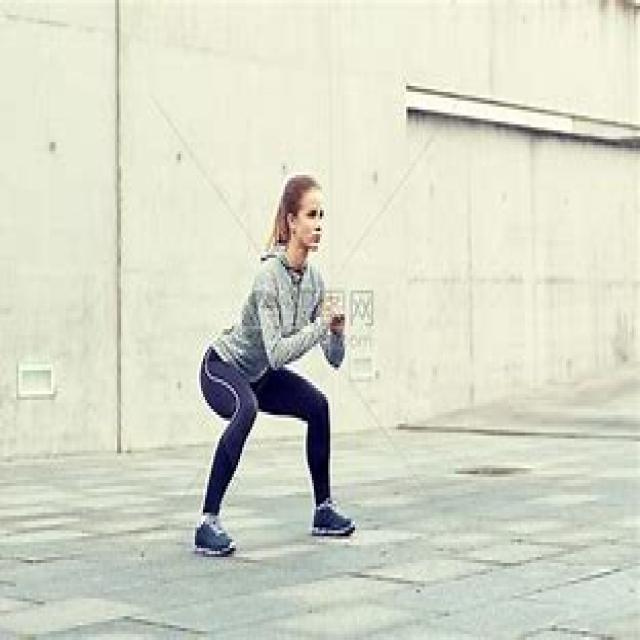sit: (191, 153, 373, 558)
